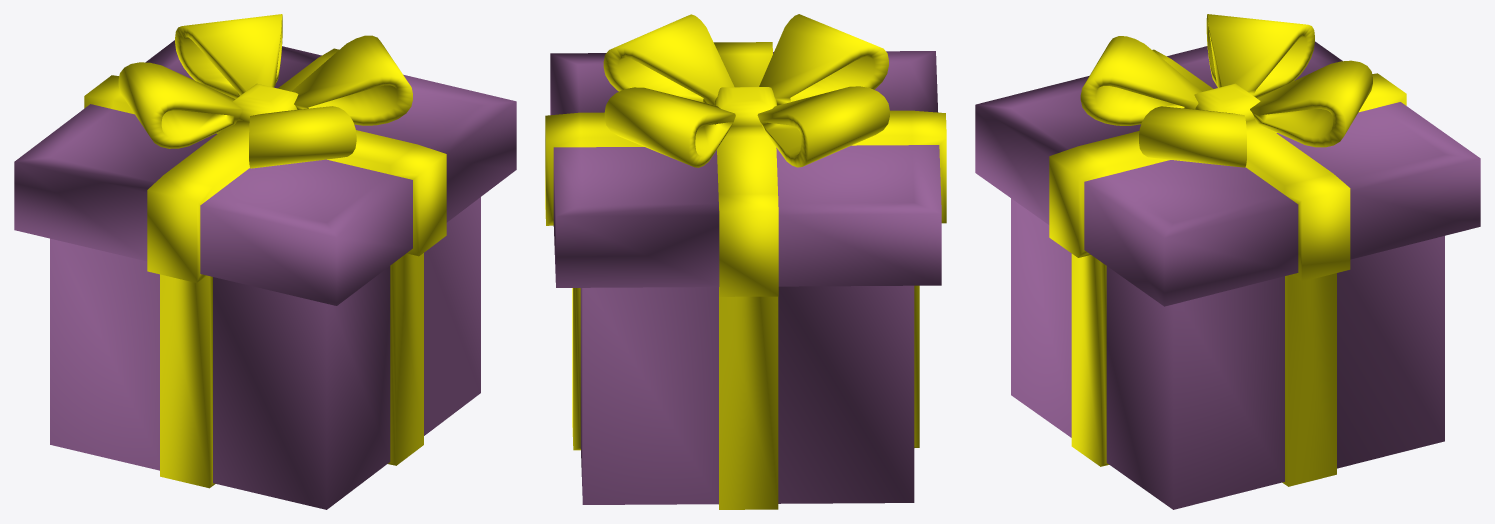
Rendered from GiftBox_2.fbx.
3 renders of one model, left to right at view 1: azimuth 30°, elevation 25°; view 2: azimuth 150°, elevation 25°; view 3: azimuth 270°, elevation 25°, orthographic. The views are drawn at different scales.
Visible parts, largest first — view 1: GiftBox_2; view 2: GiftBox_2; view 3: GiftBox_2.
Boxes of the visible parts, x1,y1,x2,y2 form: GiftBox_2: (14, 14, 516, 509); GiftBox_2: (545, 14, 946, 509); GiftBox_2: (975, 14, 1480, 509).
Bounding box in the file's own units: 0.3299 × 0.2555 × 0.3299.
